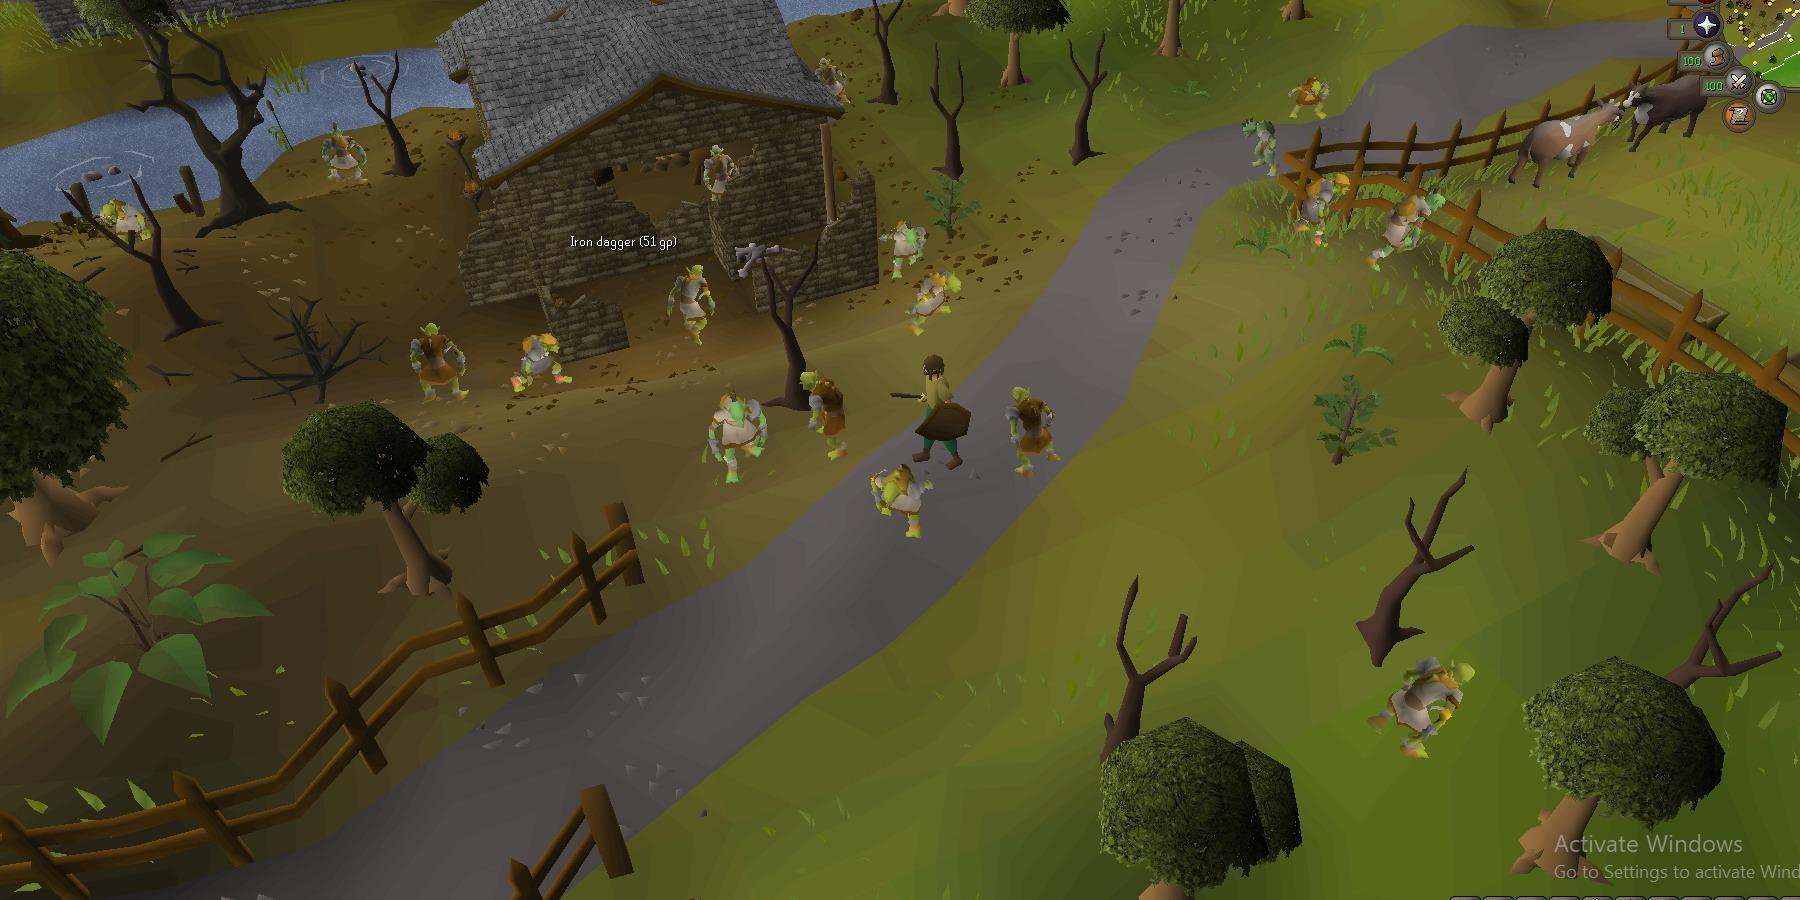goblin: (707, 391, 770, 482), (409, 321, 470, 404), (868, 464, 932, 538), (799, 371, 852, 461), (666, 265, 716, 346), (903, 270, 962, 338), (510, 333, 573, 391), (321, 122, 368, 185), (879, 219, 929, 279), (99, 200, 152, 245), (703, 145, 737, 202)
